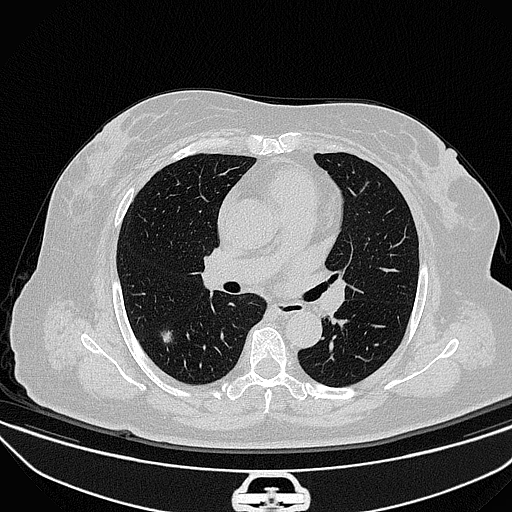nodule: (159, 329, 173, 343)
